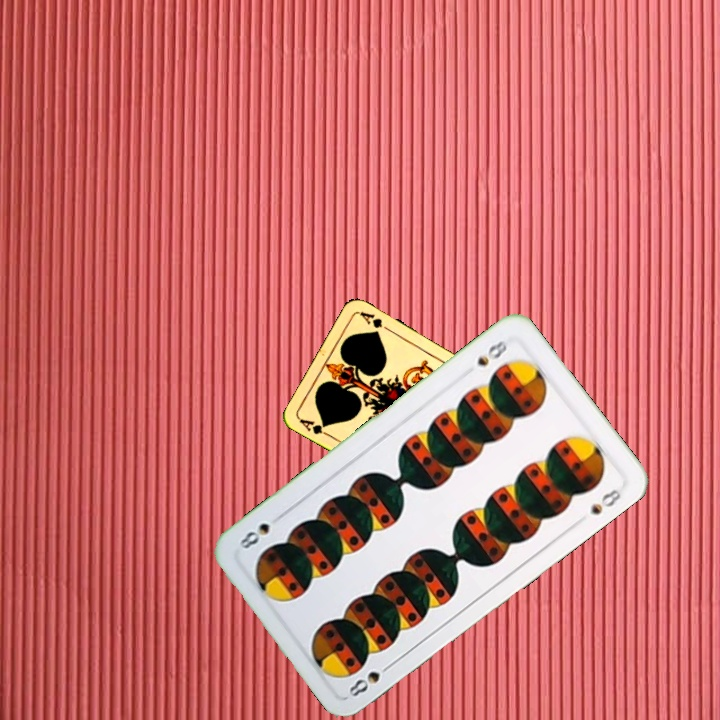GA: (295, 415, 334, 440)
S8: (344, 658, 396, 700), (472, 336, 510, 369)
